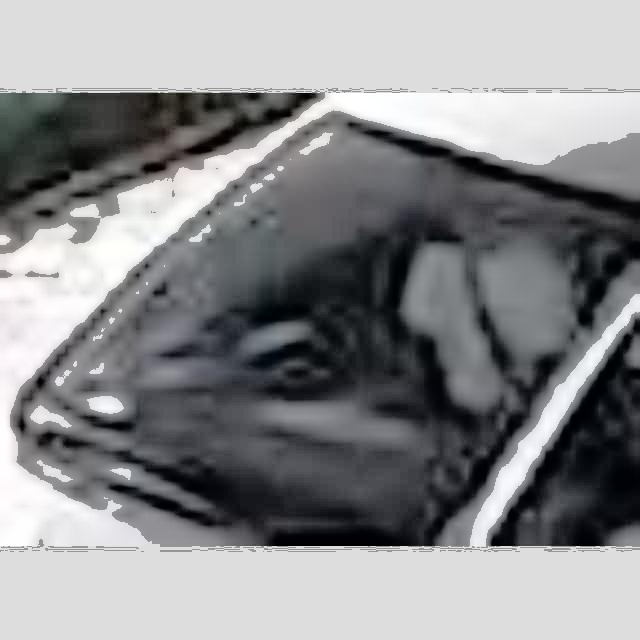pakai: (356, 191, 569, 413)
